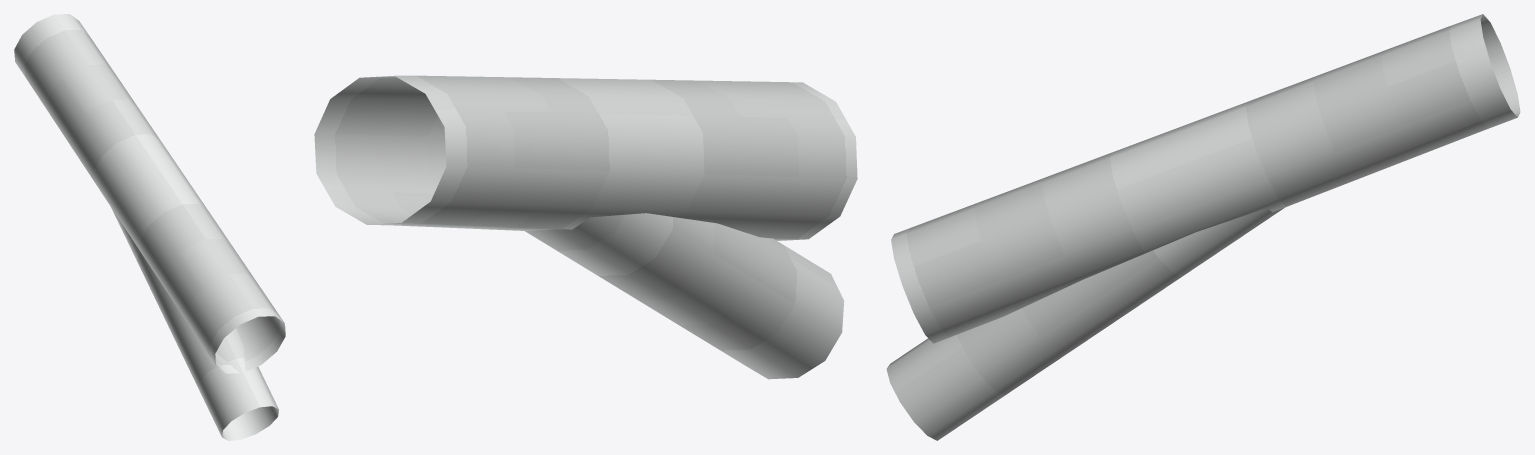
File: luminairearm_truss10ftstraight_c5.obj
3 views of the same model, side by side, from view 1: azimuth 30°, elevation 25°; view 2: azimuth 150°, elevation 25°; view 3: azimuth 270°, elevation 25° (orthographic). The views are drawn at different scales.
Parts seen in each view (by area): view 1: luminairearm_truss10ftstraight_c5; view 2: luminairearm_truss10ftstraight_c5; view 3: luminairearm_truss10ftstraight_c5.
Part boxes in pixels (bbox=[...]): luminairearm_truss10ftstraight_c5: bbox=[14, 14, 285, 440]; luminairearm_truss10ftstraight_c5: bbox=[314, 75, 857, 379]; luminairearm_truss10ftstraight_c5: bbox=[886, 14, 1520, 440].
Size of the model in its own units: 0.2 by 0.783 by 1.08.
